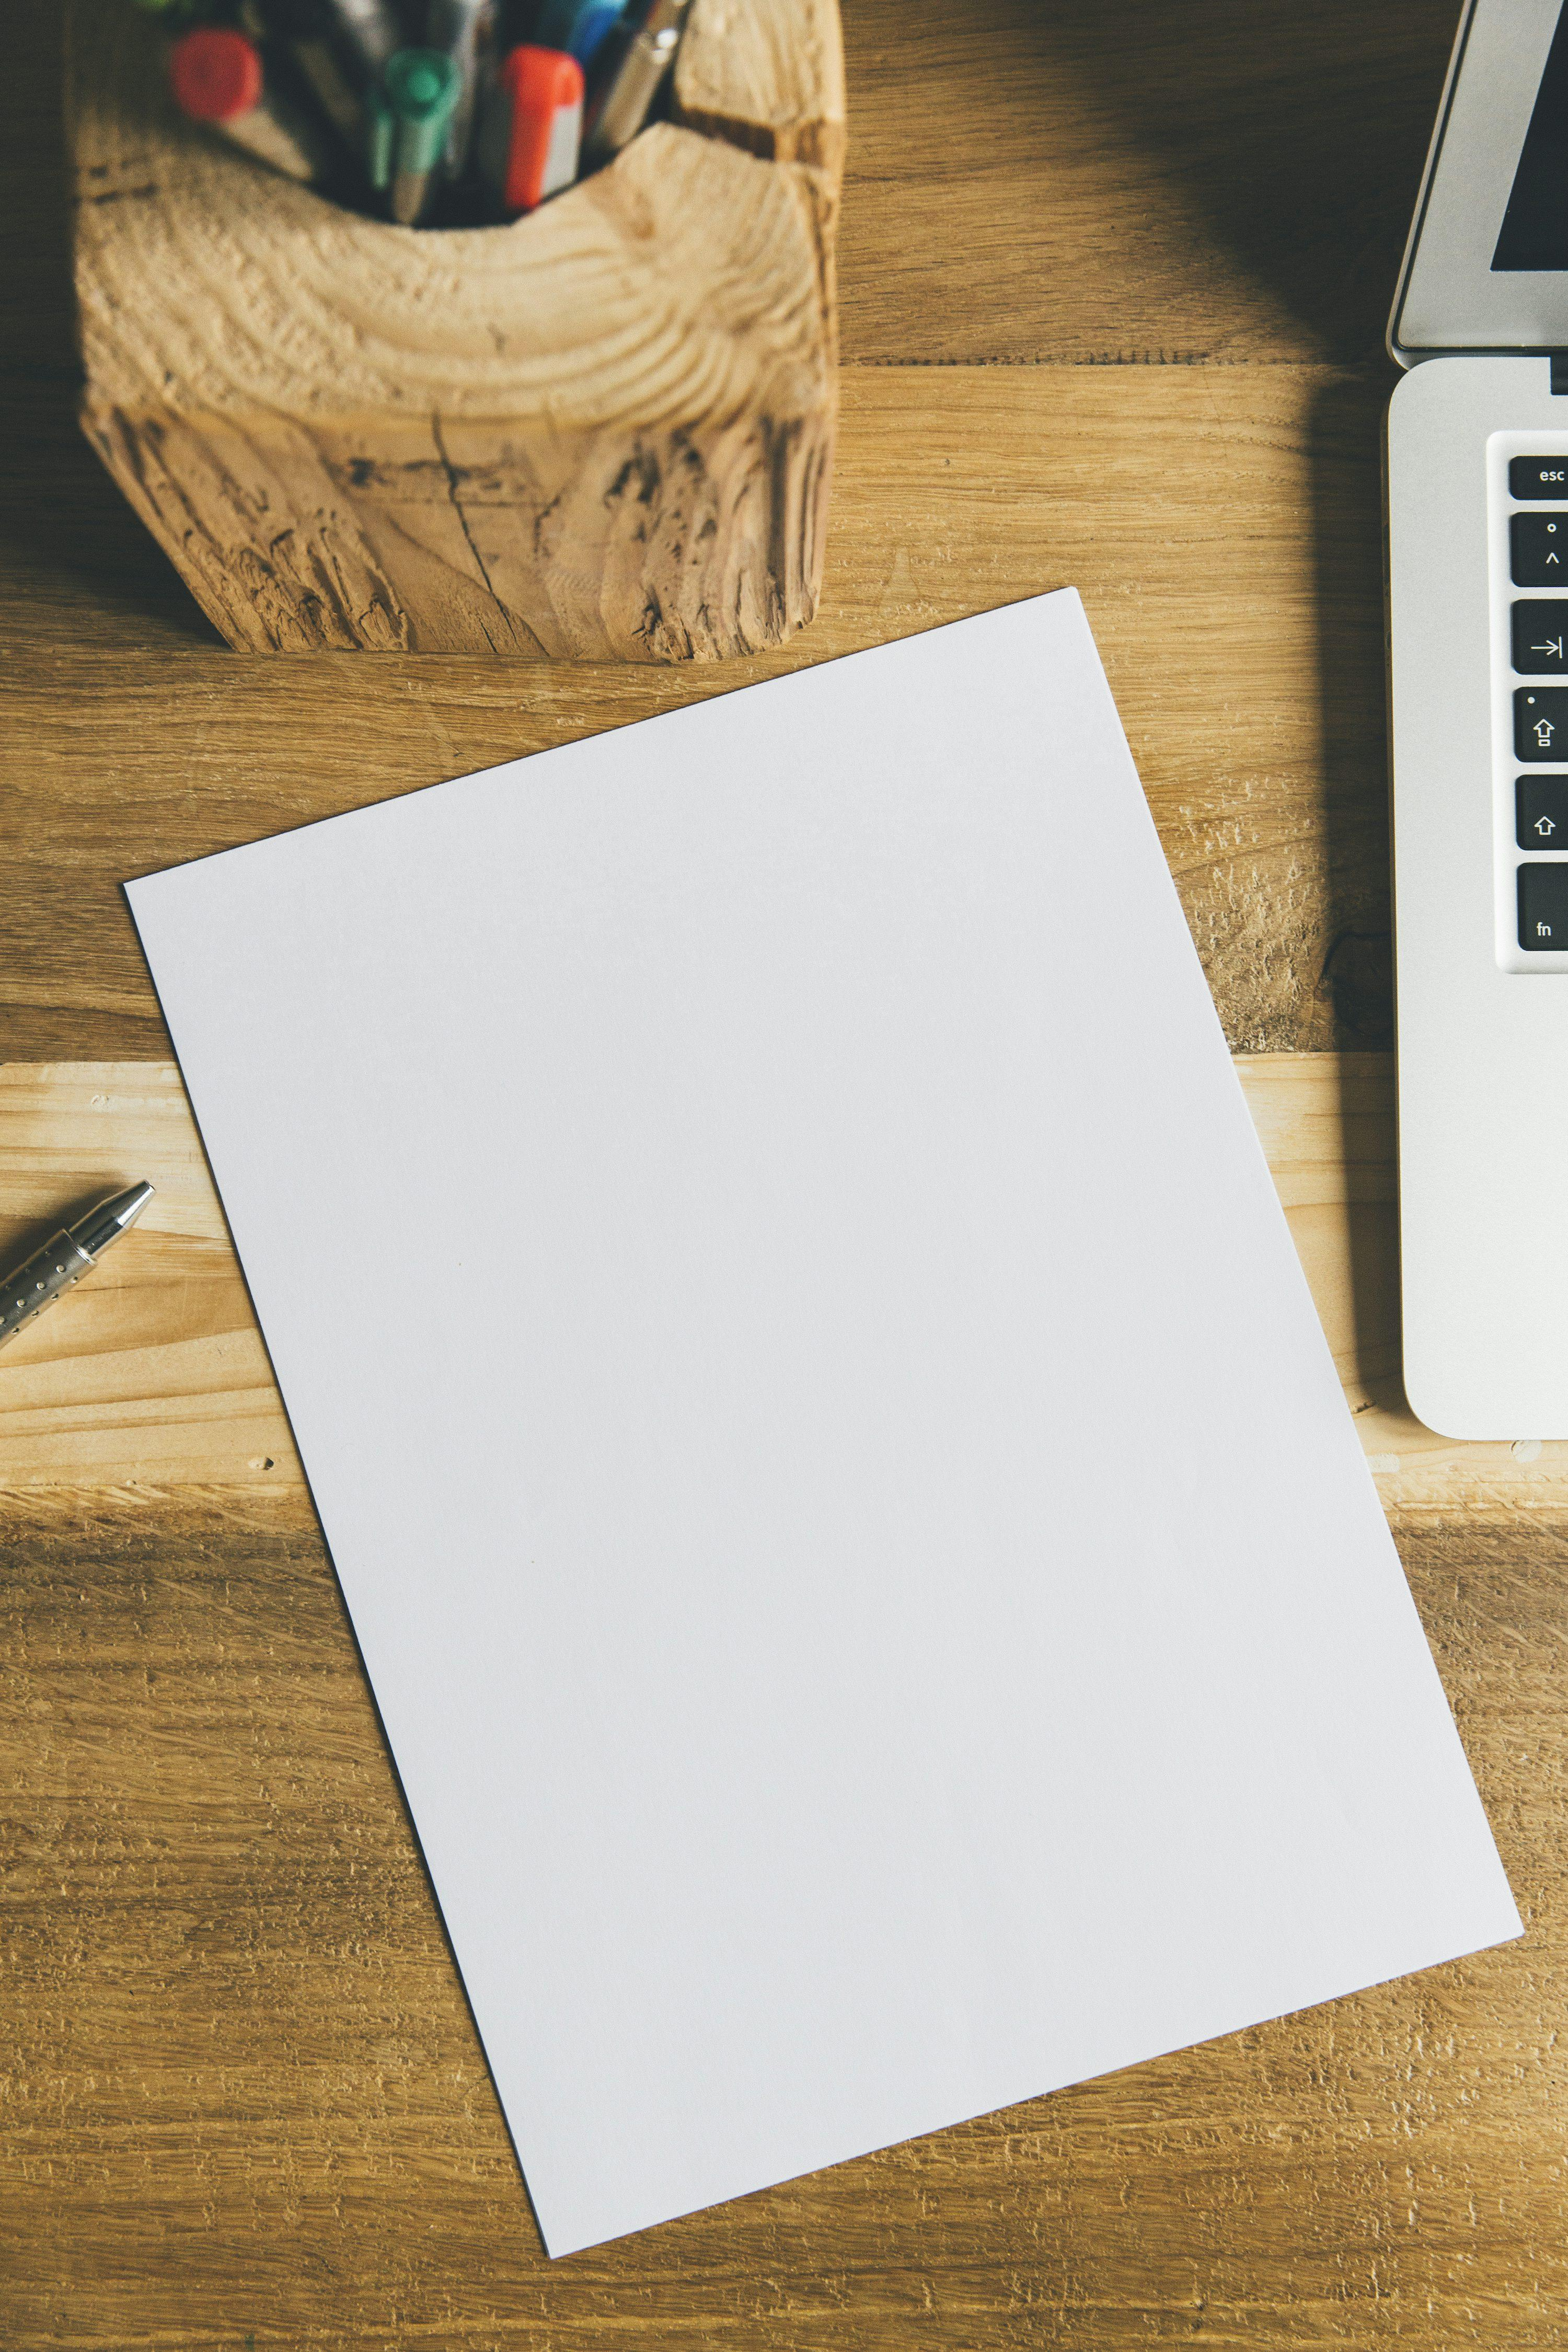plastic: (93, 565, 1526, 2263)
